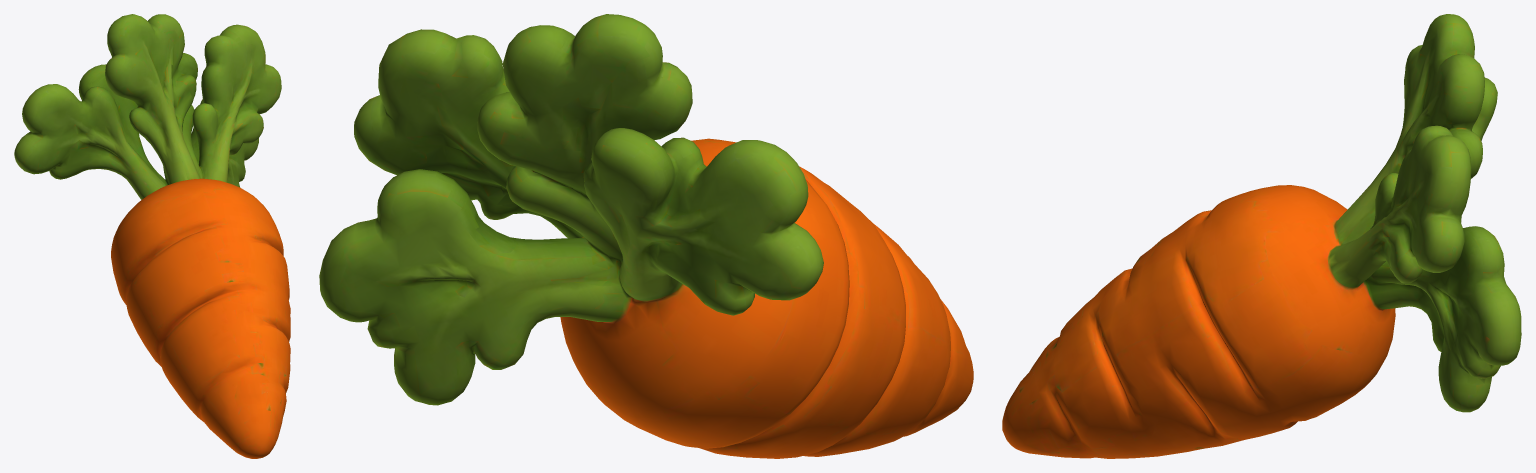
The picture shows the model from 3 angles, left to right: view 1: azimuth 30°, elevation 25°; view 2: azimuth 150°, elevation 25°; view 3: azimuth 270°, elevation 25°; orthographic projection. The views are drawn at different scales.
Visible parts, largest first — view 1: carrot; view 2: carrot; view 3: carrot.
Boxes of the visible parts, x1=… form: carrot: x1=14, y1=14, x2=290, y2=458; carrot: x1=319, y1=14, x2=973, y2=458; carrot: x1=1002, y1=14, x2=1521, y2=458.
Size of the model in its own units: 0.2094 by 0.25 by 0.2609.
Materials: 1 (1 with a texture image).
